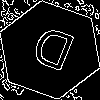D: (24, 25, 78, 81)
